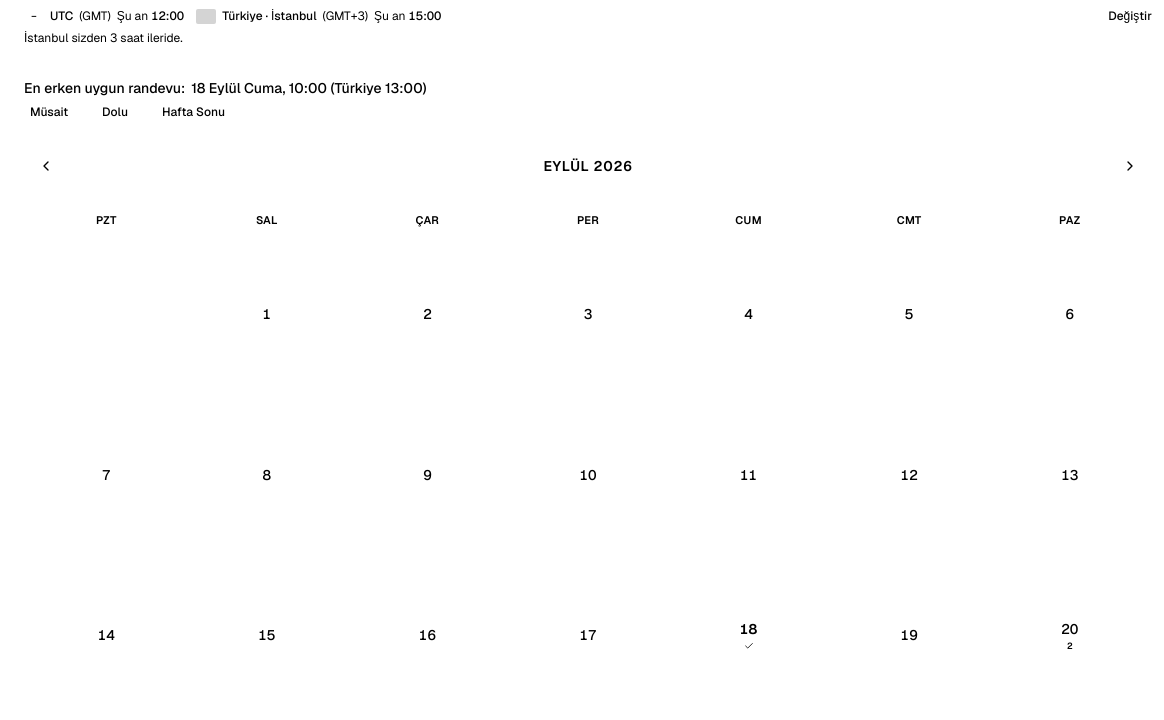
Test: AvailabilityCalendar › §2.3.1 — 'Sonraki ay' tıklanınca sayfa bir ay ilerler ve artık 'Önceki ay' `disabled` DEĞİLDİR
What coordinates should you click on to do the following:
click the button named "Sonraki ay"
I would click on:
 (1130, 166)
Its box is [1112,148,1148,184].
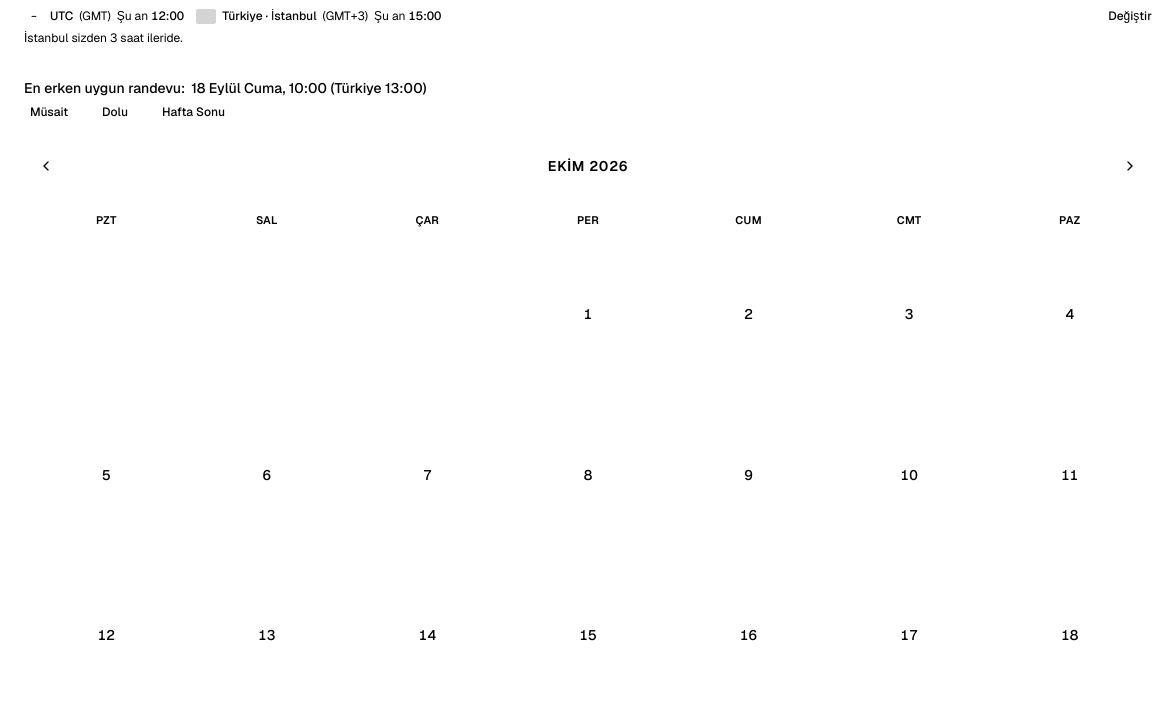
Expected: the button named "Önceki ay" is enabled, [28,148,64,184]
Expected: the text "EKİM 2026" is shown, [548,156,628,176]
